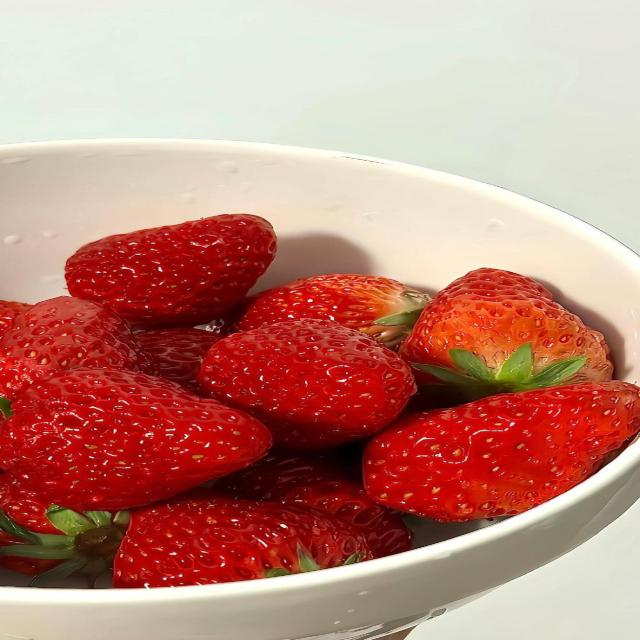strawberry: (364, 382, 639, 522), (0, 369, 271, 510), (199, 320, 415, 449), (401, 269, 612, 398), (66, 215, 276, 326), (114, 499, 373, 587), (216, 455, 410, 556), (0, 297, 155, 397), (0, 474, 129, 586), (238, 274, 428, 347), (136, 328, 220, 392), (0, 473, 59, 534), (0, 301, 30, 336)
